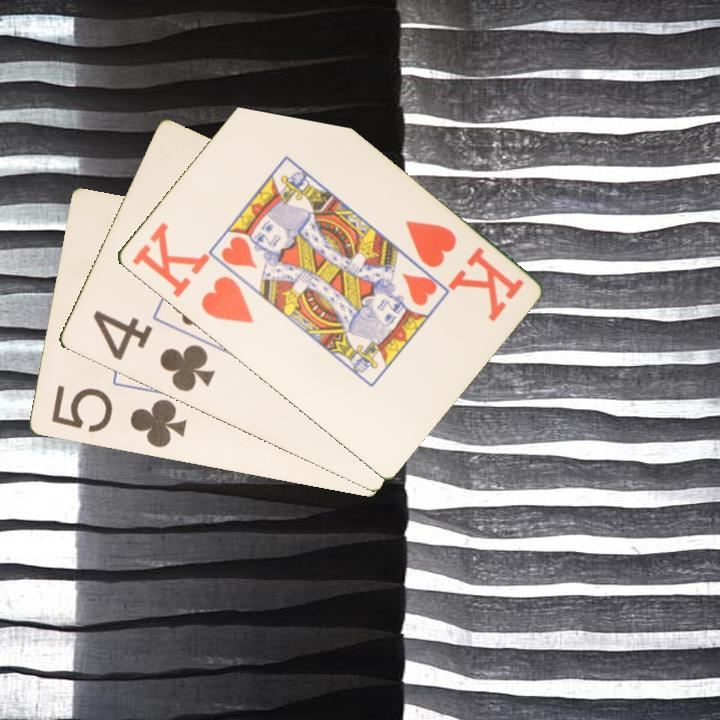4c: (89, 307, 218, 396)
5c: (47, 382, 190, 451)
Kh: (127, 218, 256, 327), (401, 216, 526, 324)
